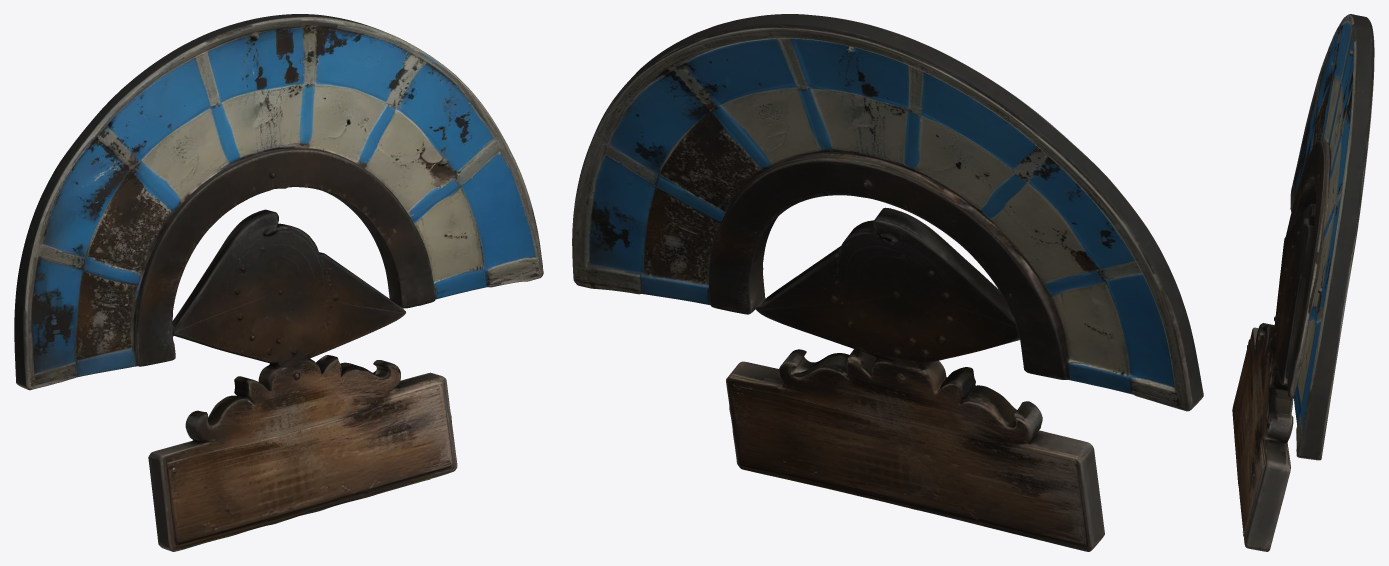
File: wariga-andro.glb
The picture shows the model from 3 angles, left to right: view 1: azimuth 30°, elevation 25°; view 2: azimuth 150°, elevation 25°; view 3: azimuth 270°, elevation 25°; orthographic projection. The views are drawn at different scales.
Parts seen in each view (by area): view 1: node_0; view 2: node_0; view 3: node_0.
Boxes of the visible parts, left/top/right/bottom form: node_0: left=14, top=14, right=543, bottom=551; node_0: left=572, top=14, right=1203, bottom=551; node_0: left=1232, top=14, right=1374, bottom=551.
Size of the model in its own units: 1.16 by 0.9645 by 0.2789.
Materials: 1 (1 with a texture image).
